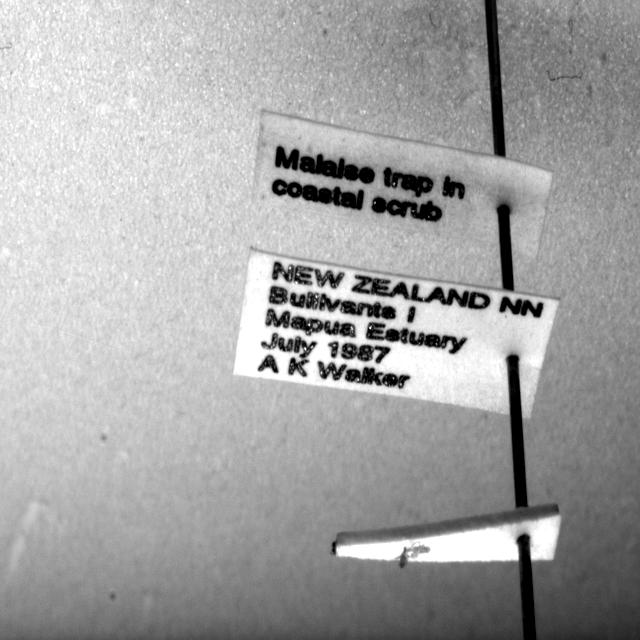typed_label: (235, 249, 559, 418), (254, 111, 552, 255)
